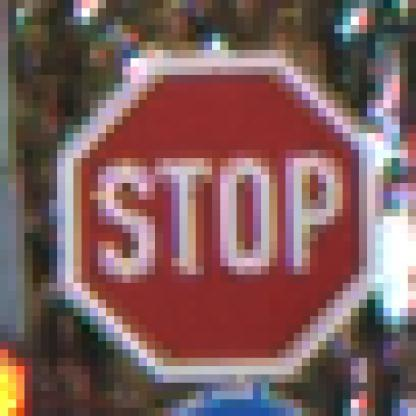Stop: (67, 58, 372, 372)
